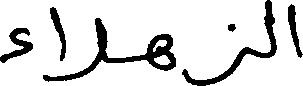X: (183, 19, 246, 85), (66, 13, 107, 85), (0, 23, 32, 67), (146, 29, 176, 75), (50, 2, 64, 85), (287, 0, 302, 62), (263, 0, 275, 62)
